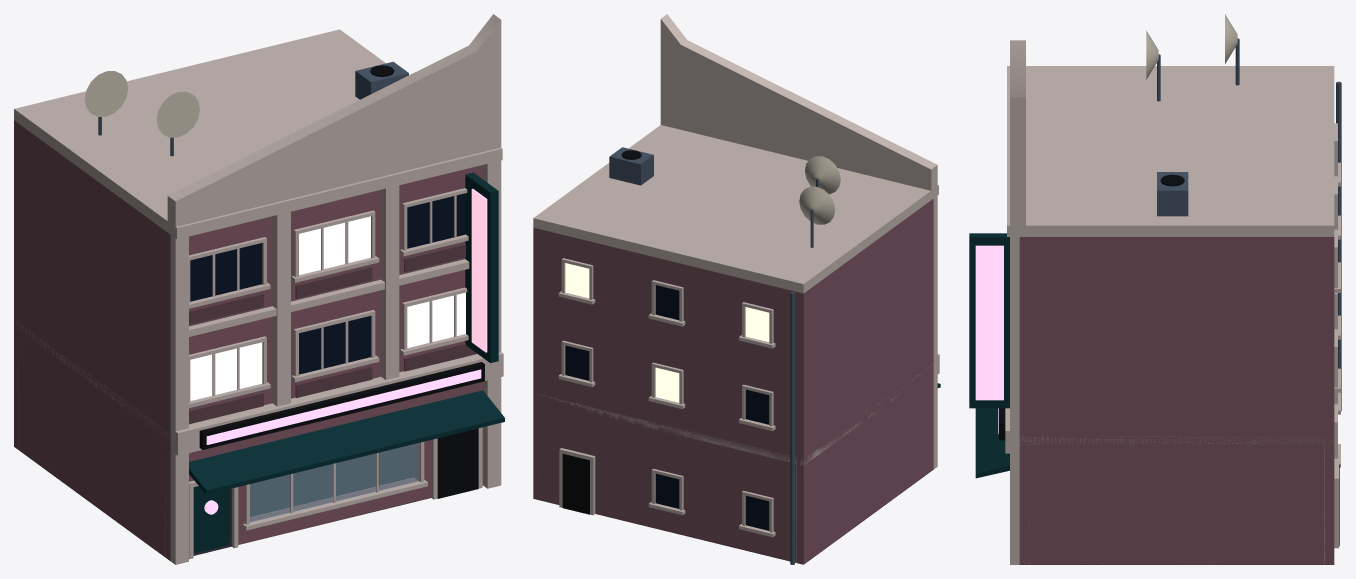
File: row_slant.glb
3 views of the same model, side by side, from view 1: azimuth 30°, elevation 25°; view 2: azimuth 150°, elevation 25°; view 3: azimuth 270°, elevation 25° (orthographic). The views are drawn at different scales.
Visible parts, largest first — view 1: row_slant, door_shop_leaf; view 2: row_slant; view 3: row_slant.
Part boxes in pixels (x1,y1,x2,y2): row_slant: (14, 14, 504, 564); door_shop_leaf: (193, 486, 230, 553); row_slant: (533, 14, 940, 564); row_slant: (969, 14, 1341, 564).
Bounding box in the file's own units: 12 × 16.4 × 11.84.
